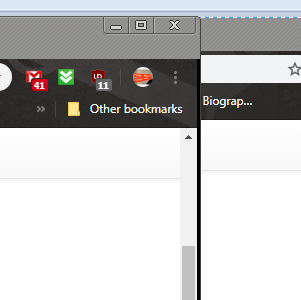close: (153, 16, 196, 34)
